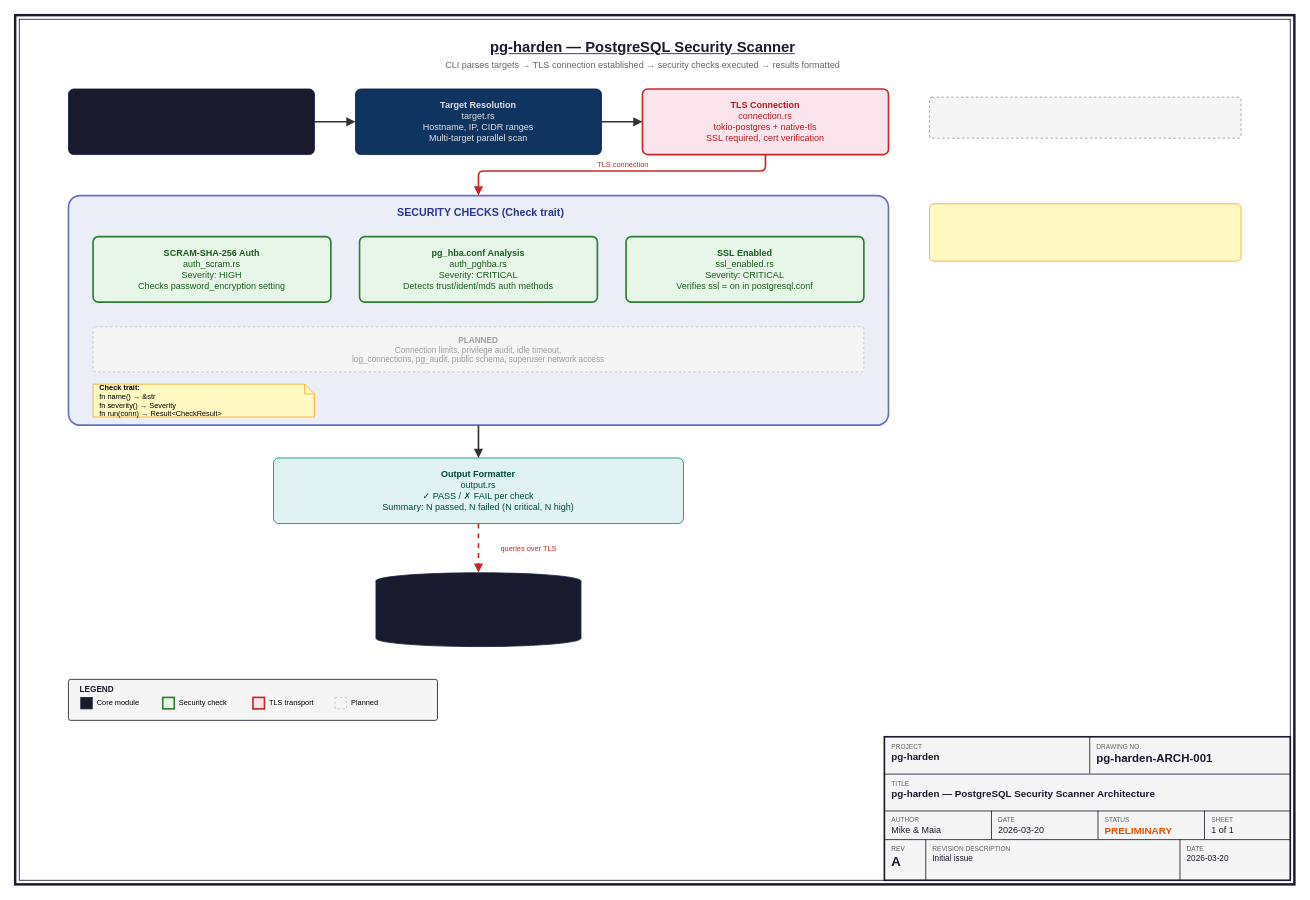
This 1310x900 diagram has some shape labels left out. Here are the shapes that lost their labels. From the top down, the centre of each, then its label:
At point (191, 121): "CLI main.rs → cli.rs scan | list commands --host --port --user --password".
At point (1085, 117): "Error Handling error.rs — ConnectionError, CheckError, ConfigError".
At point (1085, 232): "Config config.rs Severity levels: CRITICAL | HIGH | MEDIUM | LOW".
At point (478, 609): "PostgreSQL Target db.example.com:5432 scram-sha-256 + SSL".
